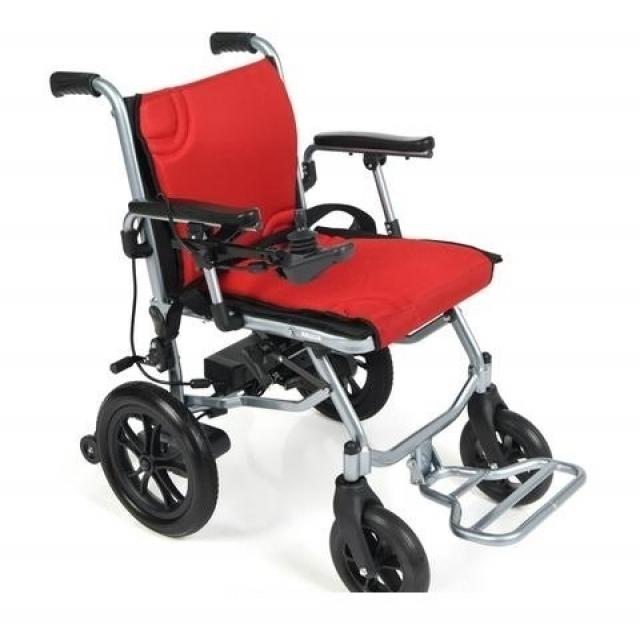wheelchair: (31, 21, 616, 599)
